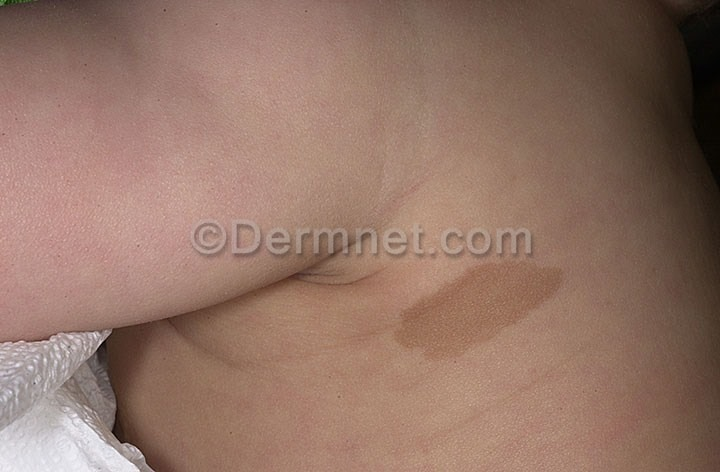Melasma: (74, 139, 702, 393)
